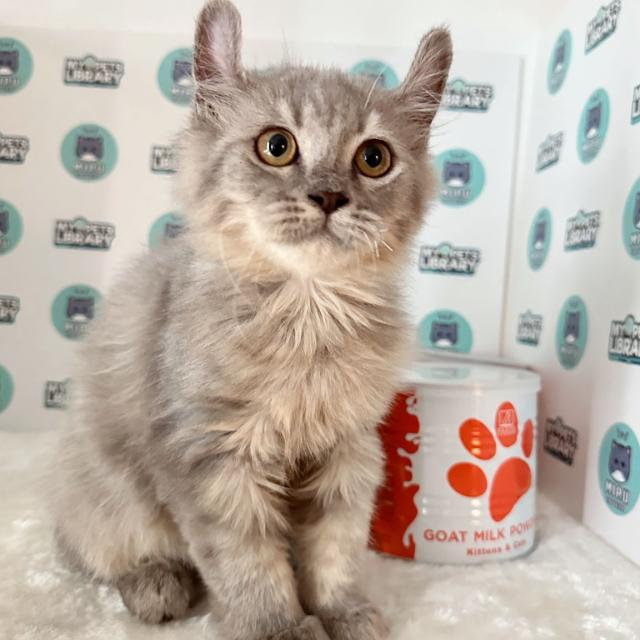American Curl: (43, 0, 457, 640)
